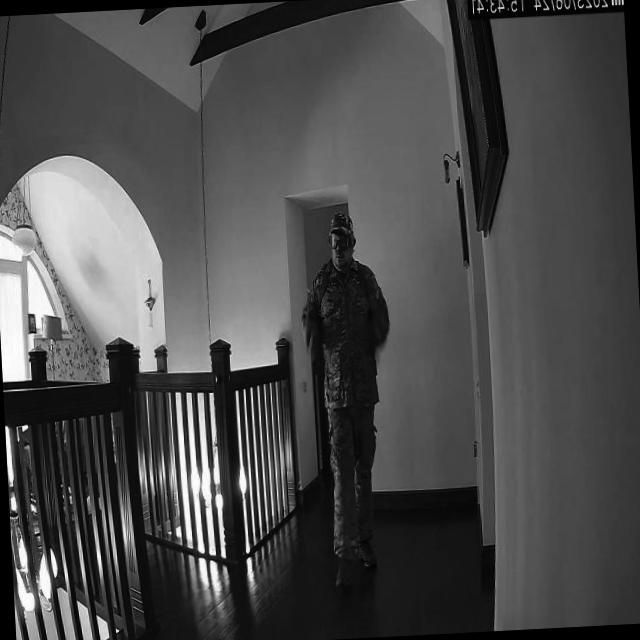person: (298, 207, 404, 596)
